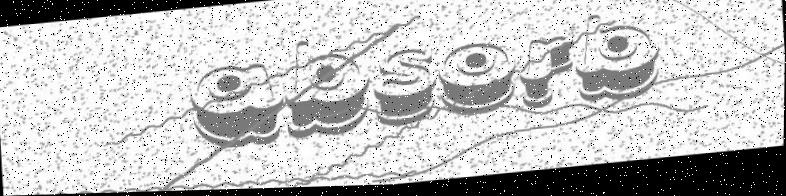a: (186, 60, 283, 155)
b: (279, 35, 375, 144), (571, 12, 663, 110)
o: (435, 41, 521, 122)
r: (516, 36, 577, 115)
s: (370, 47, 439, 133)
